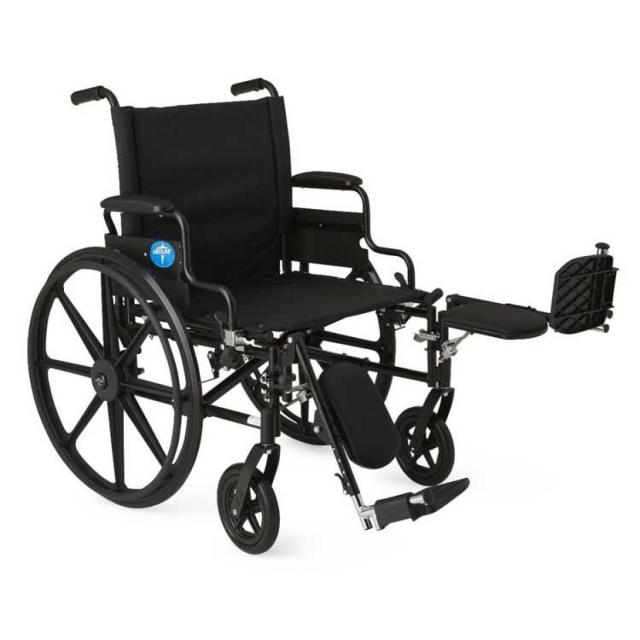wheelchair: (25, 58, 622, 564)
